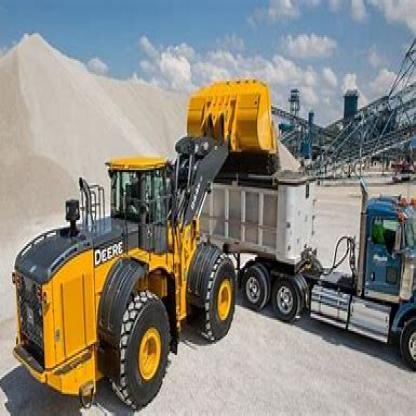bull_dozer/loader/grader: (4, 76, 281, 405)
